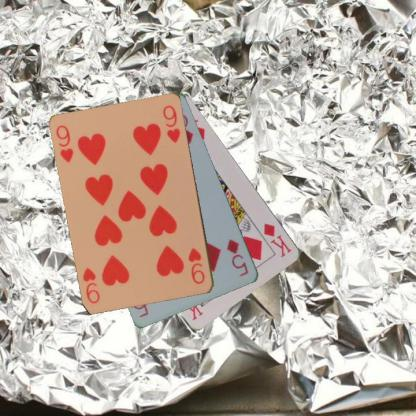5d: (224, 236, 250, 278)
9h: (54, 123, 75, 164), (186, 245, 206, 285)
Kd: (261, 220, 294, 260)
